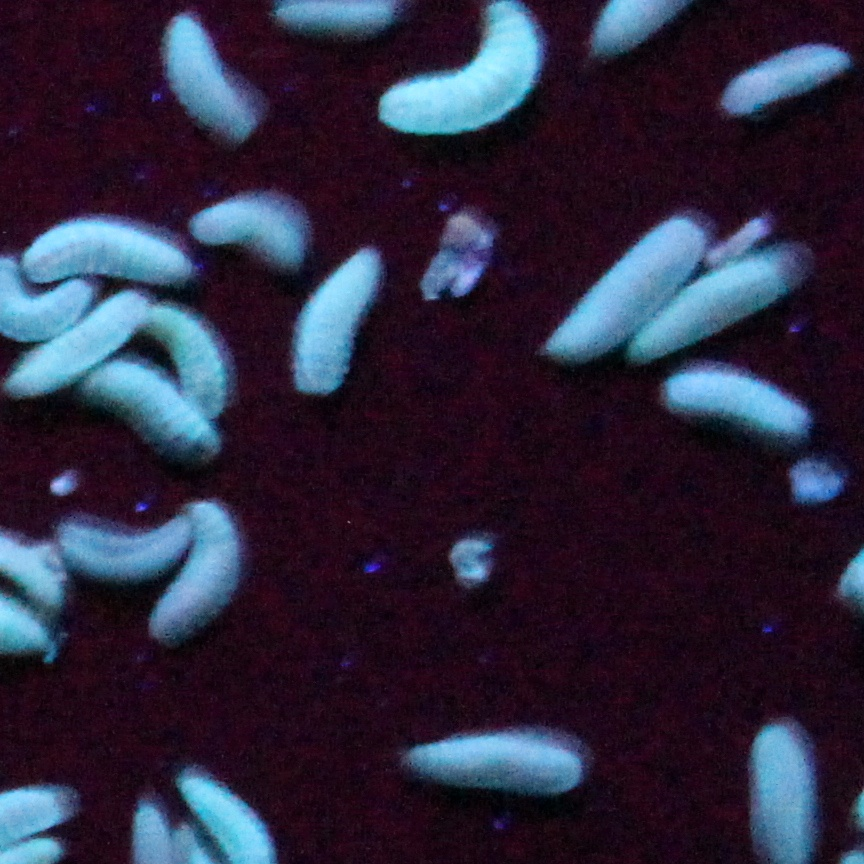larve: (381, 1, 539, 136), (552, 219, 705, 356), (631, 258, 783, 358), (9, 291, 147, 393), (292, 248, 379, 394), (154, 504, 236, 638), (164, 15, 254, 137), (87, 364, 216, 445), (25, 222, 192, 284), (406, 736, 581, 792), (143, 305, 226, 415), (668, 371, 809, 434), (723, 48, 844, 114), (59, 517, 194, 574), (193, 199, 302, 263)
